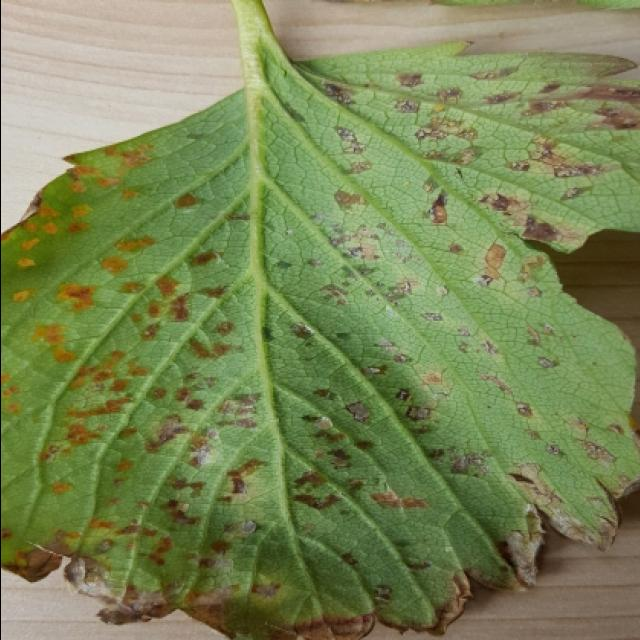Angular Leafspot: (2, 41, 640, 638)
